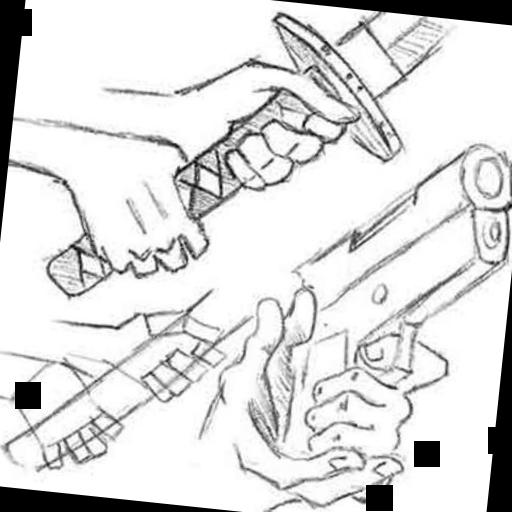Handgun: (247, 118, 512, 487)
